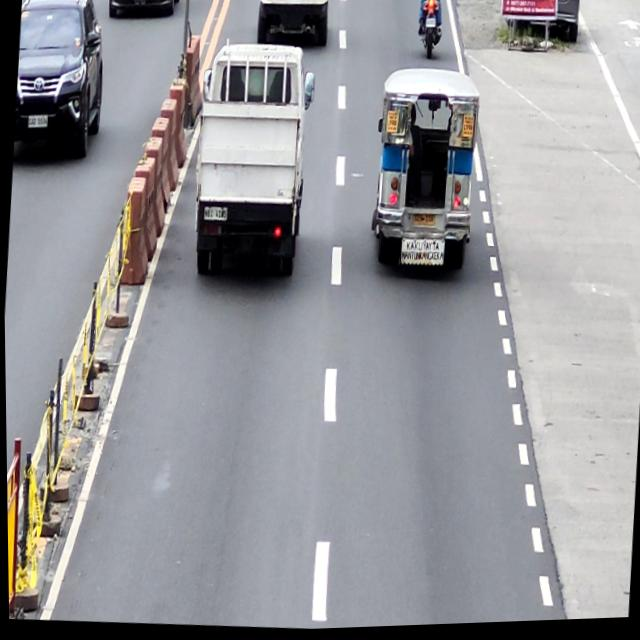Car: (254, 0, 331, 53)
Jeep: (365, 65, 484, 282)
License-Plate: (201, 207, 227, 224), (410, 216, 434, 230), (424, 20, 436, 31), (284, 0, 302, 1)
Motorcycle: (415, 0, 445, 63)
Truck: (187, 39, 318, 285)
